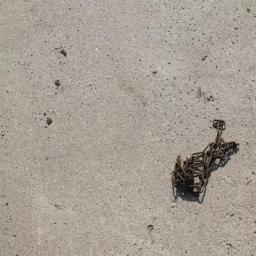FOD: (170, 118, 242, 207)
